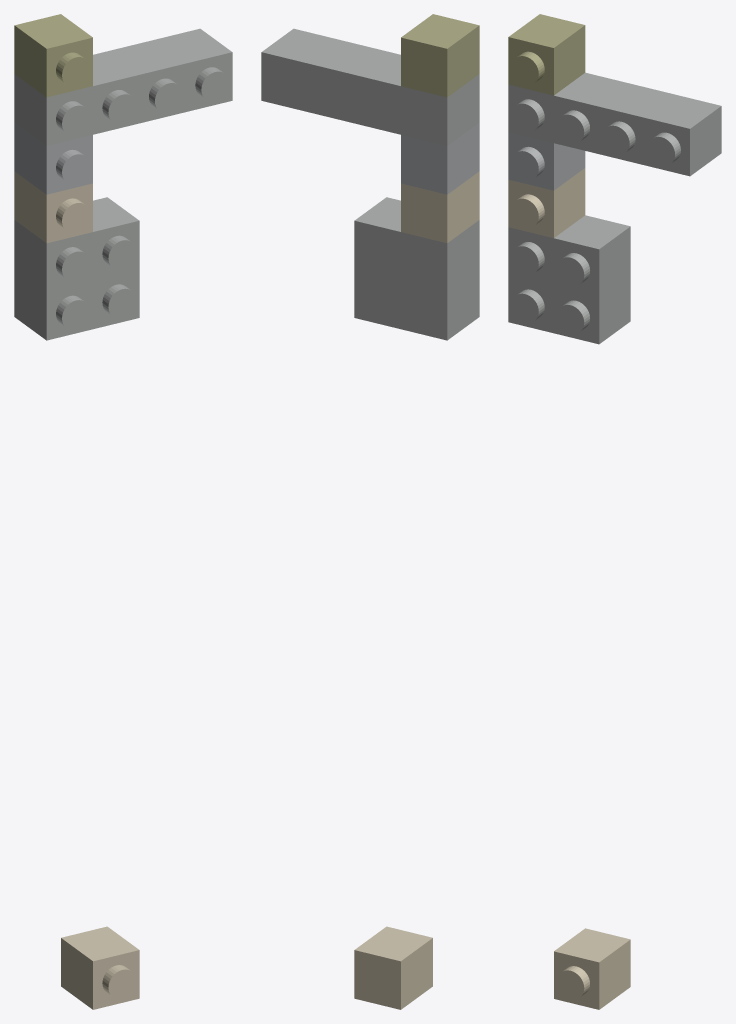
File: current.glb
3 renders of one model, left to right at view 1: azimuth 30°, elevation 25°; view 2: azimuth 150°, elevation 25°; view 3: azimuth 330°, elevation 25°, orthographic. The views are drawn at different scales.
Visible parts, largest first — view 1: world; view 2: world; view 3: world.
Boxes of the visible parts, left/top/right/bottom form: world: left=14, top=14, right=232, bottom=1009; world: left=261, top=14, right=479, bottom=1009; world: left=508, top=14, right=721, bottom=1009.
Bounding box in the file's own units: 32 × 160 × 11.4.
